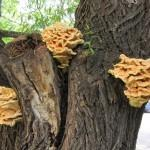Sulphur-yellow tinder fungus: (109, 54, 149, 106), (42, 22, 83, 67), (0, 86, 21, 125)
